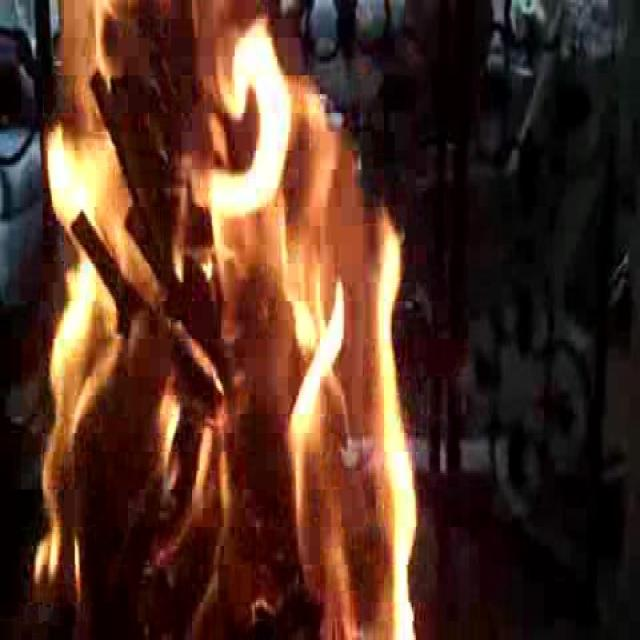fire: (34, 1, 425, 630)
